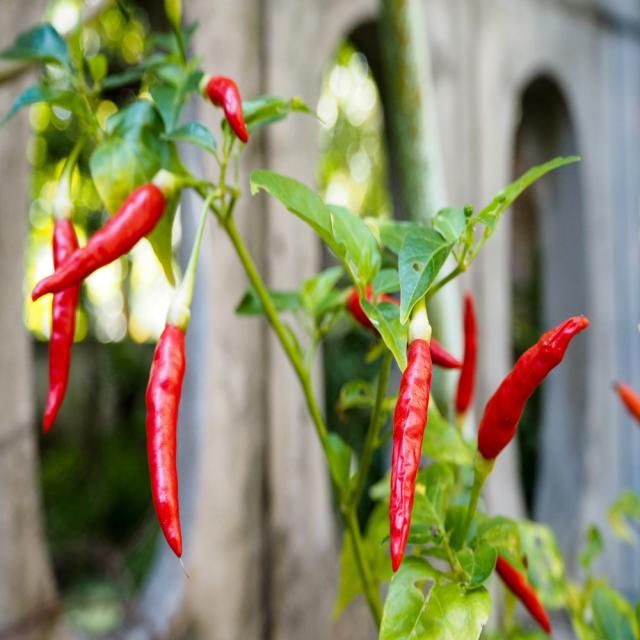Ripe: (478, 317, 589, 459), (32, 182, 166, 299), (389, 340, 432, 572), (39, 212, 80, 434), (146, 325, 185, 557), (495, 556, 550, 632), (206, 77, 248, 142), (456, 291, 478, 412), (430, 338, 464, 370)
